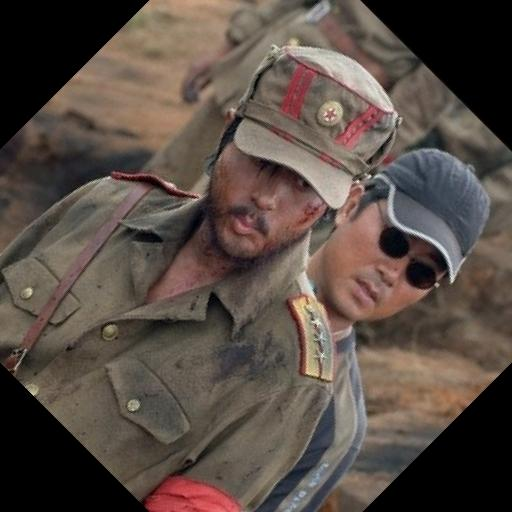north army: (37, 52, 351, 511)
